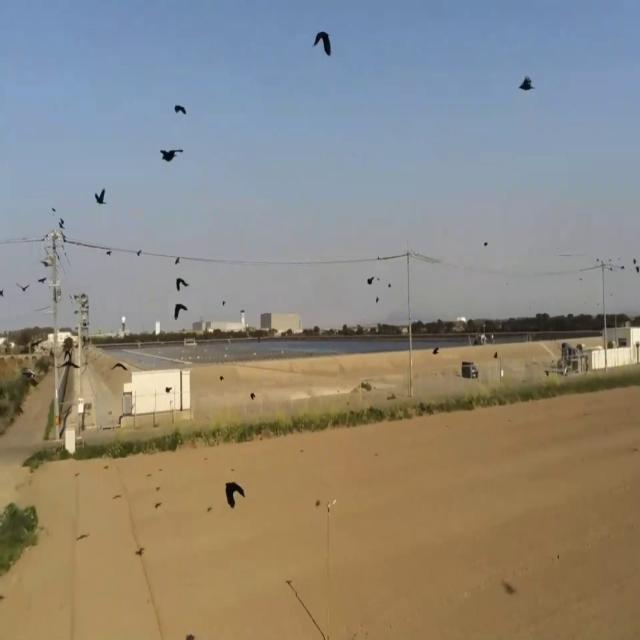bird: (224, 470, 244, 516), (314, 20, 332, 66), (159, 140, 182, 170), (519, 66, 534, 99), (174, 290, 187, 322), (175, 269, 187, 299), (174, 97, 187, 122), (94, 184, 106, 210), (17, 278, 30, 298), (366, 271, 374, 290), (38, 272, 47, 288), (634, 256, 639, 274), (0, 286, 4, 303), (376, 291, 380, 306), (484, 237, 488, 250), (388, 279, 392, 290), (620, 262, 624, 273)
